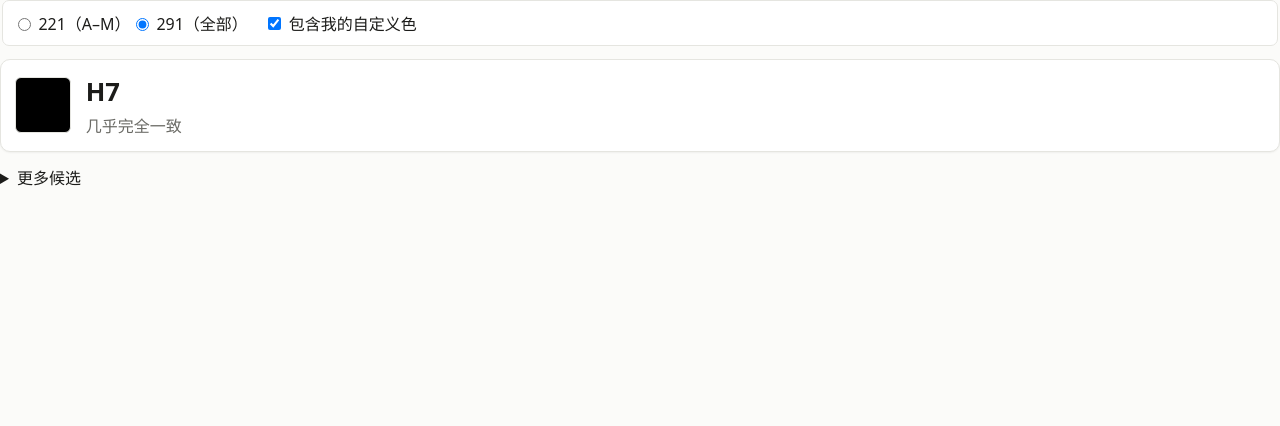
it: MatchPanel › shows stock state for the candidates
Click the heading "更多候选". click: (49, 178)
box: [17, 167, 81, 189]
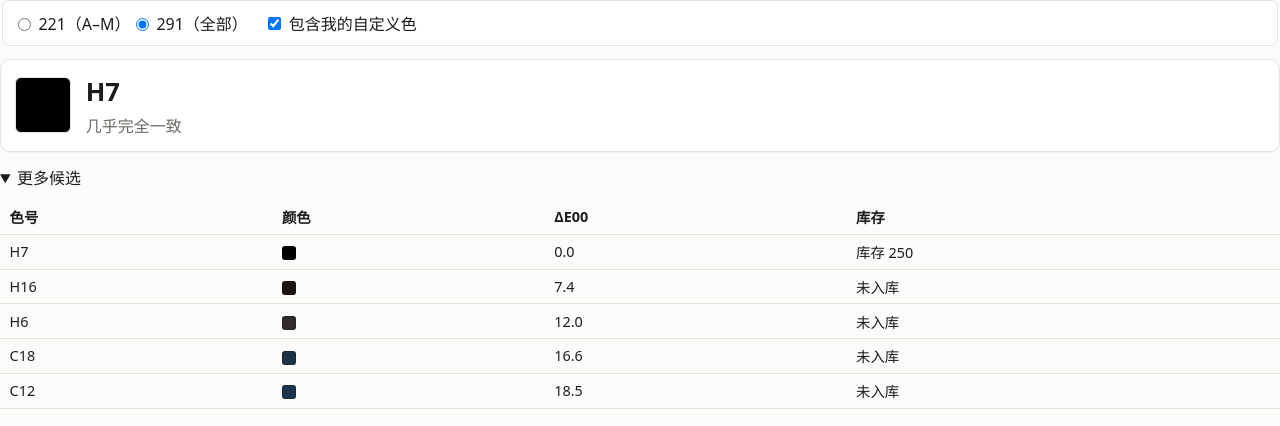
Result: the text "库存 250" is shown at [846, 234, 1279, 269]
